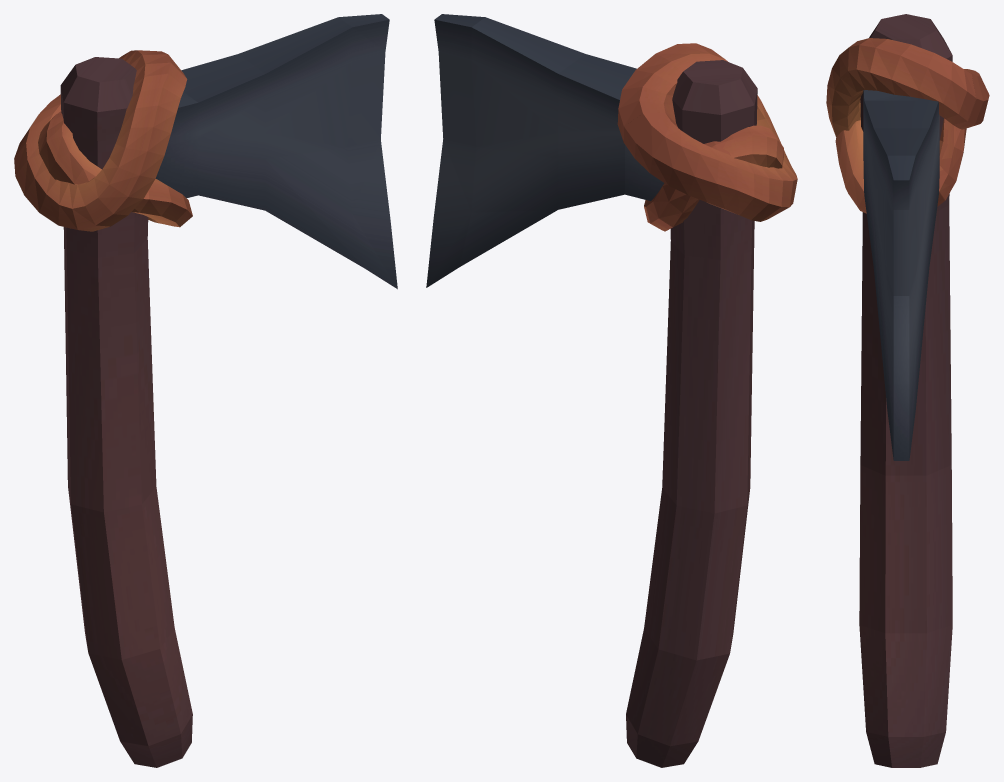
The model's file is axe 1.obj.
The picture shows the model from 3 angles, left to right: view 1: azimuth 30°, elevation 25°; view 2: azimuth 150°, elevation 25°; view 3: azimuth 270°, elevation 25°; orthographic projection. The views are drawn at different scales.
Parts seen in each view (by area): view 1: Cylinder002, Cylinder001, Cylinder003, Cylinder004; view 2: Cylinder002, Cylinder001, Cylinder003, Cylinder004; view 3: Cylinder002, Cylinder001, Cylinder003, Cylinder004.
Boxes of the visible parts, x1,y1,x2,y2 form: Cylinder002: [60, 57, 192, 767]; Cylinder001: [155, 14, 397, 289]; Cylinder003: [14, 50, 187, 231]; Cylinder004: [38, 111, 192, 227]; Cylinder002: [626, 60, 757, 767]; Cylinder001: [426, 14, 663, 287]; Cylinder003: [617, 43, 797, 221]; Cylinder004: [644, 125, 783, 231]; Cylinder002: [859, 14, 952, 767]; Cylinder001: [863, 90, 939, 460]; Cylinder003: [826, 38, 989, 136]; Cylinder004: [835, 118, 966, 213].
Bounding box in the file's own units: 1.27 × 2.38 × 0.4879.
